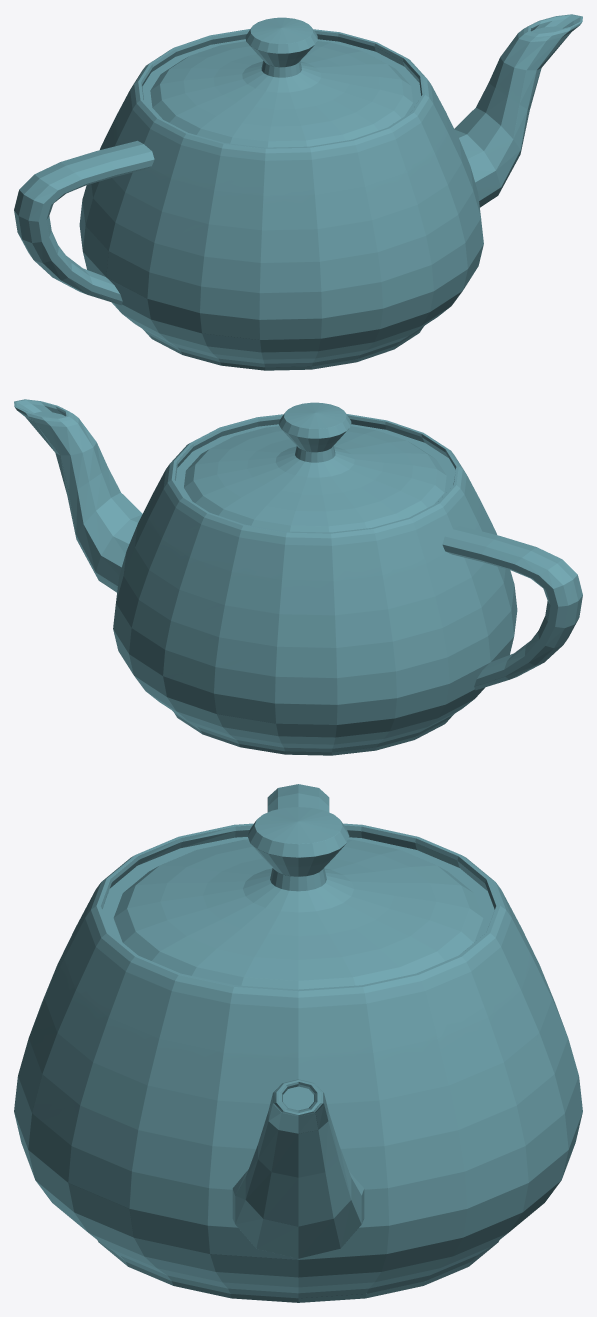
Rendered from UtahTeapot.fbx.
The picture shows the model from 3 angles, top to bottom: view 1: azimuth 30°, elevation 25°; view 2: azimuth 150°, elevation 25°; view 3: azimuth 270°, elevation 25°; orthographic projection. The views are drawn at different scales.
Parts seen in each view (by area): view 1: Teapot001; view 2: Teapot001; view 3: Teapot001.
Boxes of the visible parts, x1,y1,x2,y2 form: Teapot001: [14, 14, 582, 370]; Teapot001: [14, 399, 582, 755]; Teapot001: [14, 784, 582, 1302].
Size of the model in its own units: 80.4 by 39.37 by 49.99.
